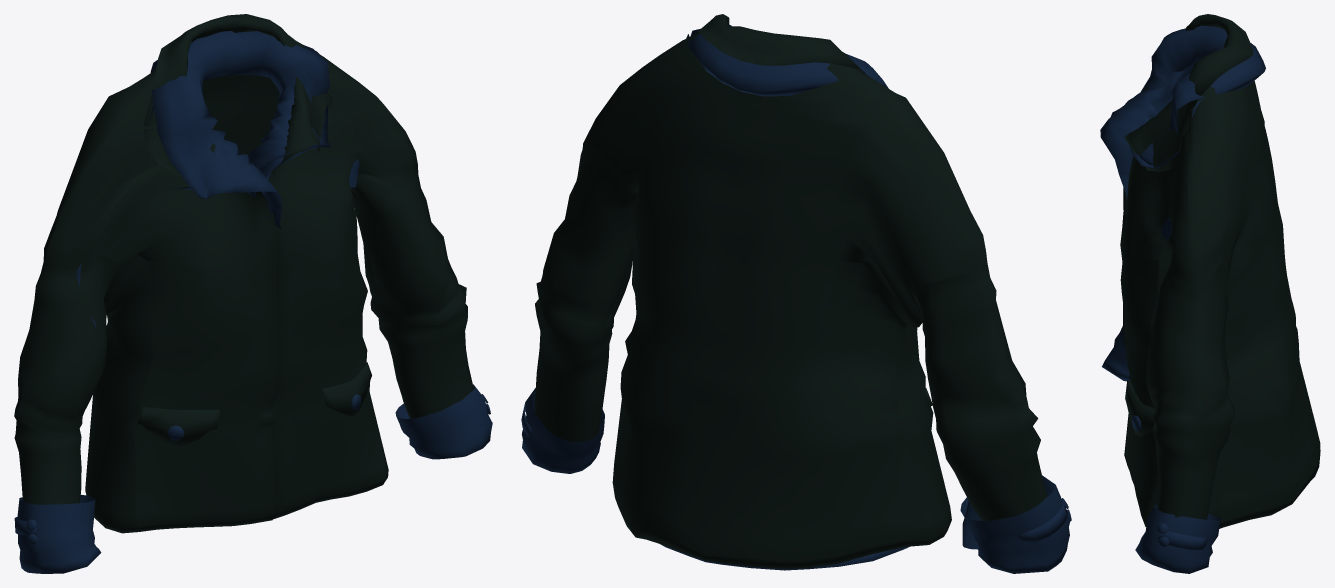
Rendered from Veste.dae.
3 views of the same model, side by side, from view 1: azimuth 30°, elevation 25°; view 2: azimuth 150°, elevation 25°; view 3: azimuth 270°, elevation 25° (orthographic). The views are drawn at different scales.
Visible parts, largest first — view 1: Jacket.002, Jacket.001, Jacket.004, Jacket.003; view 2: Jacket.002, Jacket.004, Jacket.001, Jacket.003; view 3: Jacket.002, Jacket.001, Jacket.004, Jacket.003.
Boxes of the visible parts, x1,y1,x2,y2 form: Jacket.002: [14, 14, 473, 533]; Jacket.001: [76, 31, 359, 328]; Jacket.004: [14, 384, 492, 573]; Jacket.003: [150, 45, 329, 197]; Jacket.002: [534, 14, 1047, 568]; Jacket.004: [521, 388, 1069, 573]; Jacket.001: [688, 24, 981, 549]; Jacket.003: [660, 34, 909, 570]; Jacket.002: [1120, 14, 1320, 528]; Jacket.001: [1100, 25, 1265, 394]; Jacket.004: [1102, 326, 1220, 573]; Jacket.003: [1129, 72, 1320, 479].
Bounding box in the file's own units: 0.6664 × 0.2795 × 0.6208.
